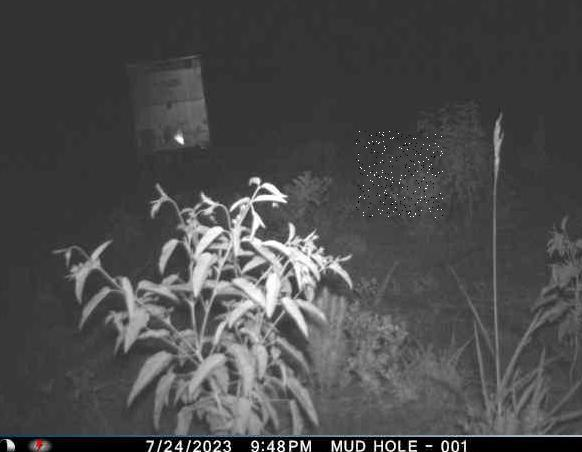Hog: (357, 132, 444, 219)
